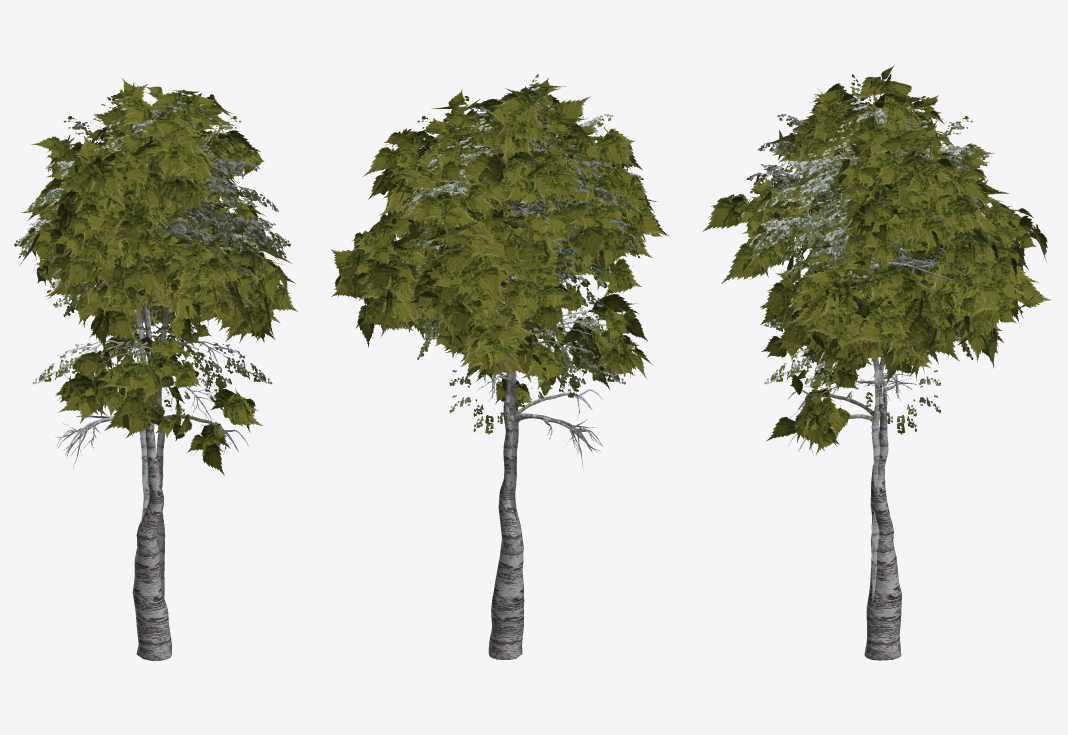
Rendered from tree_aspen.glb.
The picture shows the model from 3 angles, left to right: view 1: azimuth 30°, elevation 25°; view 2: azimuth 150°, elevation 25°; view 3: azimuth 270°, elevation 25°; orthographic projection.
Parts seen in each view (by area): view 1: aspen2_LOD1, aspen2_LOD2, aspen2_LOD3; view 2: aspen2_LOD2, aspen2_LOD1, aspen2_LOD3; view 3: aspen2_LOD1, aspen2_LOD2, aspen2_LOD3.
Boxes of the visible parts, x1,y1,x2,y2 form: aspen2_LOD1: [22, 78, 289, 661]; aspen2_LOD2: [17, 83, 297, 475]; aspen2_LOD3: [14, 89, 290, 601]; aspen2_LOD2: [331, 84, 668, 404]; aspen2_LOD1: [331, 78, 662, 659]; aspen2_LOD3: [393, 74, 643, 523]; aspen2_LOD1: [722, 65, 1042, 660]; aspen2_LOD2: [702, 76, 1050, 454]; aspen2_LOD3: [746, 74, 1022, 601].
Bounding box in the file's own units: 3.87 × 7.58 × 4.21.
Materials: 3 (3 with a texture image).
